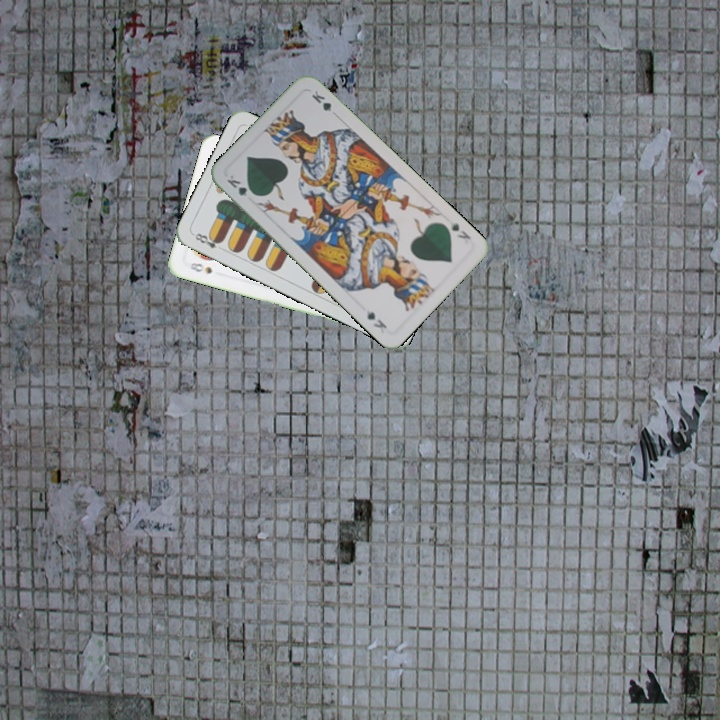E8: (189, 229, 225, 251)
GK: (222, 171, 259, 200), (445, 218, 474, 242)
S8: (185, 258, 215, 276)
